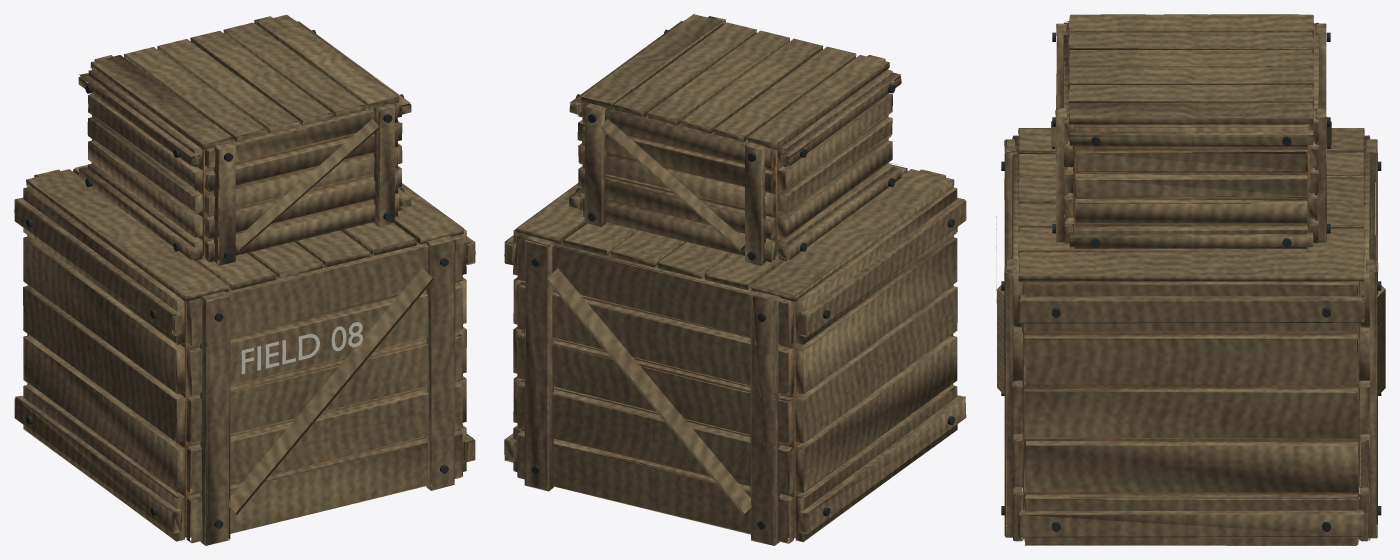
File: crate.glb
3 views of the same model, side by side, from view 1: azimuth 30°, elevation 25°; view 2: azimuth 150°, elevation 25°; view 3: azimuth 270°, elevation 25° (orthographic). The views are drawn at different scales.
Parts seen in each view (by area): view 1: crate_premium, HQ_stencil_FIELD 08; view 2: crate_premium; view 3: crate_premium.
Part boxes in pixels (x1=…): crate_premium: x1=14, y1=15, x2=475, y2=545; HQ_stencil_FIELD 08: x1=241, y1=322, x2=362, y2=374; crate_premium: x1=504, y1=14, x2=966, y2=545; crate_premium: x1=997, y1=14, x2=1385, y2=545.
Bounding box in the file's own units: 1.3 × 1.5 × 1.3.
4 materials, 3 textured.
